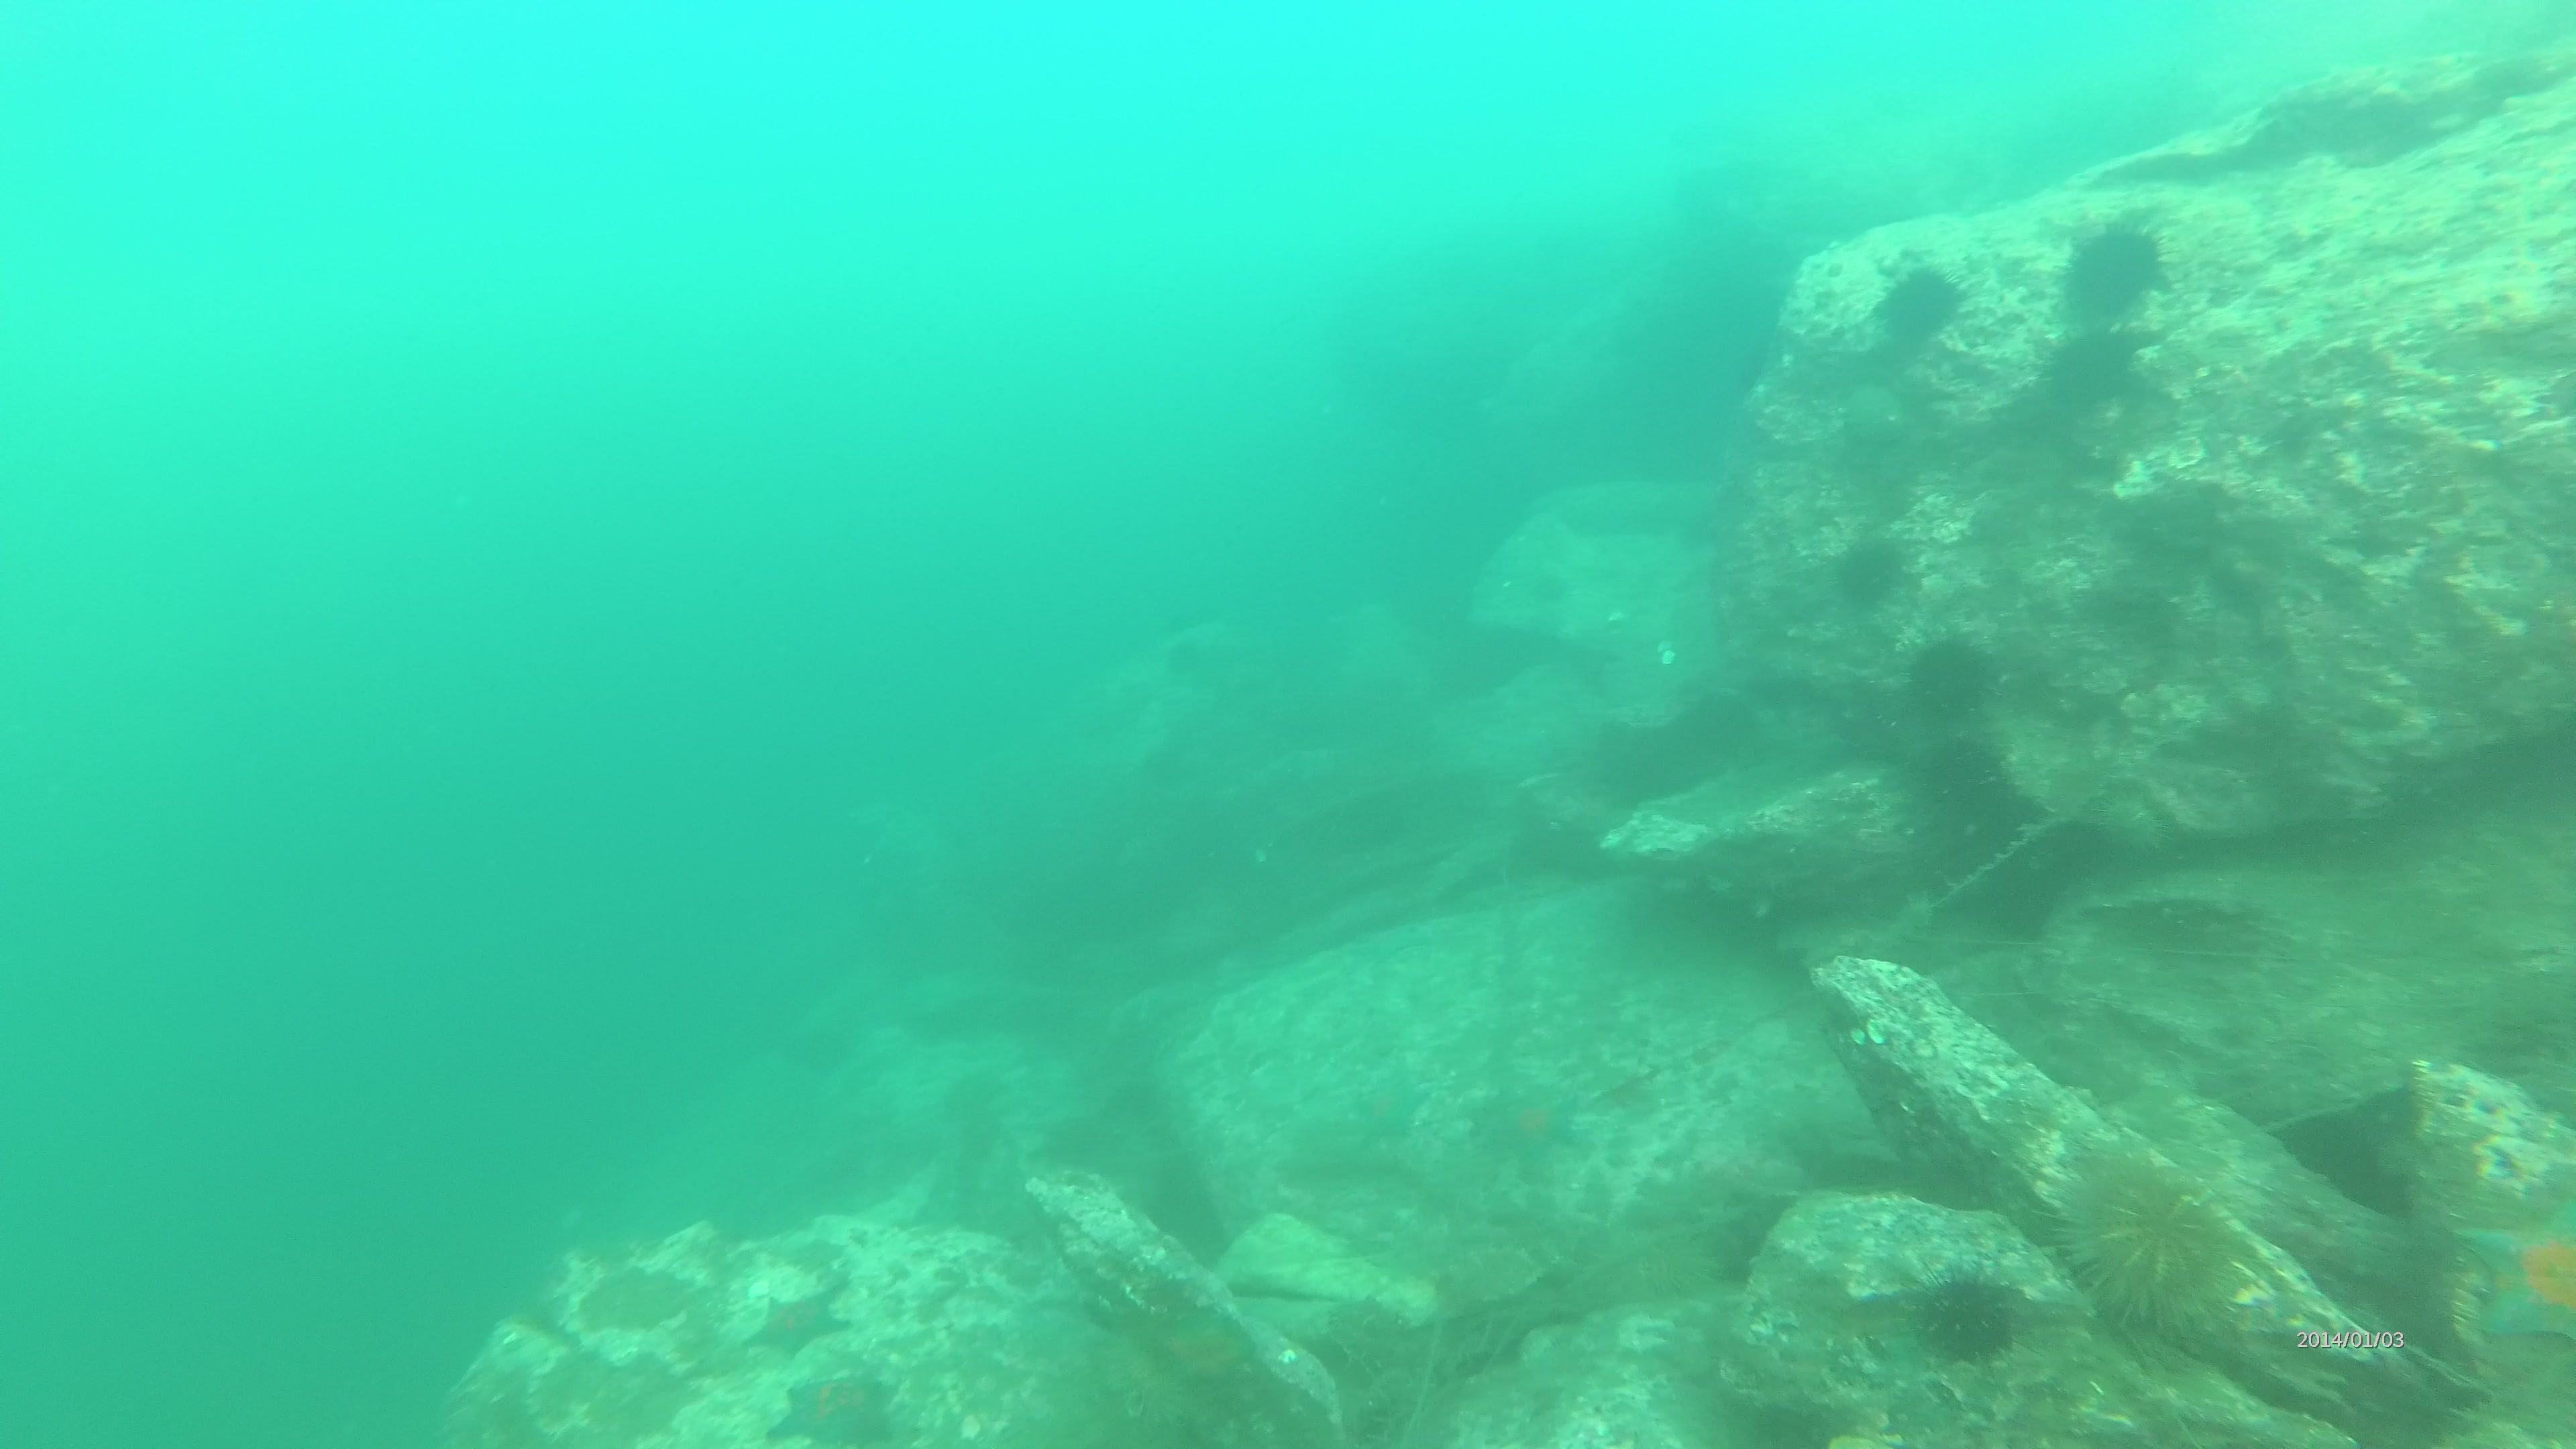echinus: (2061, 1134, 2279, 1357), (1902, 1249, 2029, 1391), (1890, 623, 2005, 738), (2061, 216, 2181, 322), (2029, 320, 2157, 412), (1861, 262, 1980, 354), (1821, 525, 1920, 617), (2095, 789, 2173, 867)
starfish: (2454, 1182, 2576, 1353), (768, 1364, 904, 1449), (736, 1276, 855, 1364), (1472, 1077, 1582, 1169)
